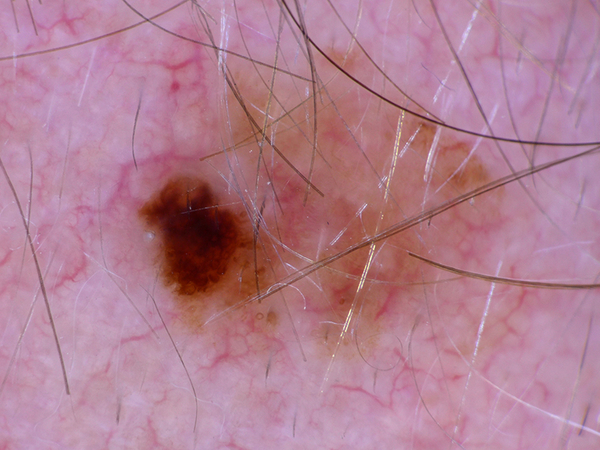Detected Lesion: (121, 172, 283, 346)
